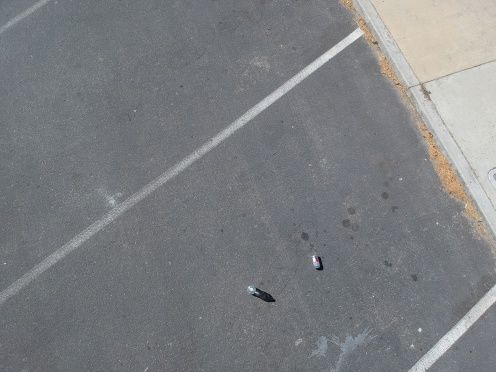bottle: (241, 283, 260, 296)
can: (308, 250, 325, 271)
